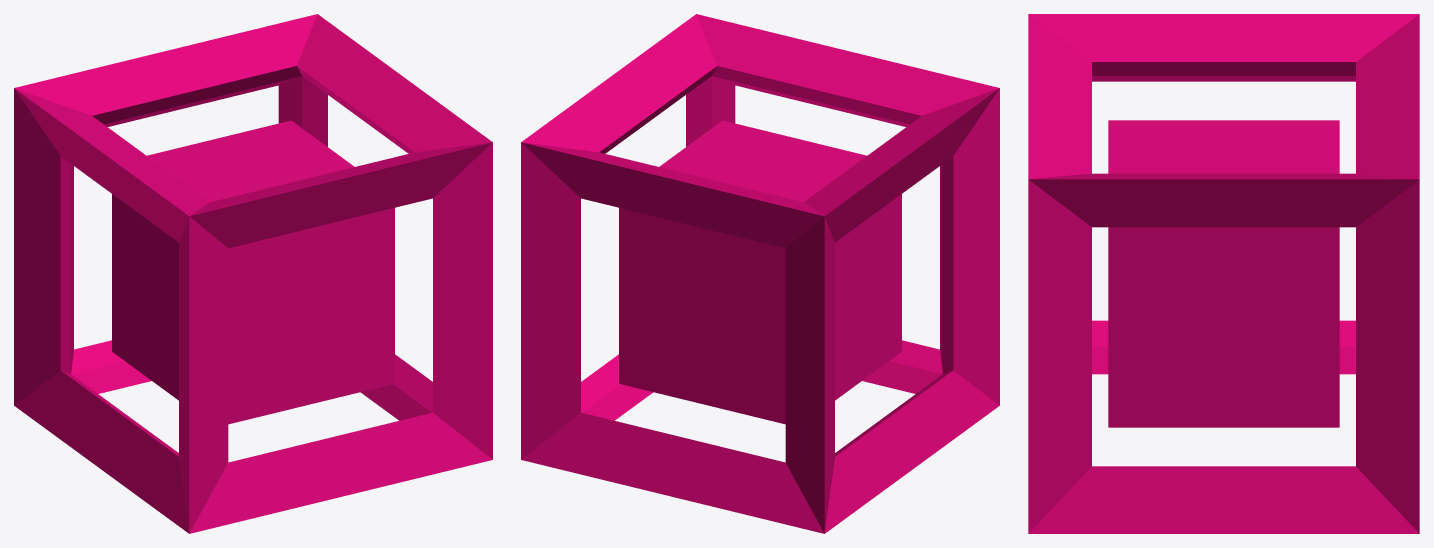
Rendered from EnemyHeavy.fbx.
3 views of the same model, side by side, from view 1: azimuth 30°, elevation 25°; view 2: azimuth 150°, elevation 25°; view 3: azimuth 270°, elevation 25° (orthographic). The views are drawn at different scales.
Parts seen in each view (by area): view 1: EnemyHeavy; view 2: EnemyHeavy; view 3: EnemyHeavy.
Part boxes in pixels (x1,y1,x2,y2): EnemyHeavy: (14,14,492,533); EnemyHeavy: (521,14,999,533); EnemyHeavy: (1028,14,1419,533).
Bounding box in the file's own units: 28.56 × 28.56 × 28.56.
